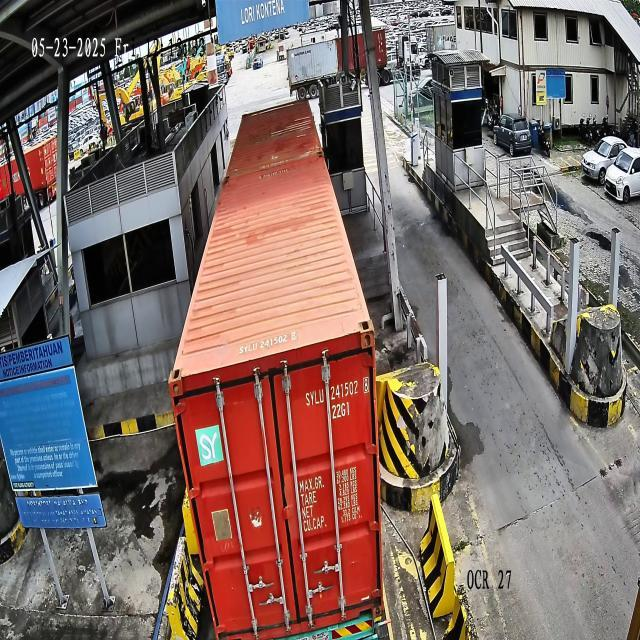ISO: (330, 398, 350, 419)
container_number: (304, 376, 370, 408)
